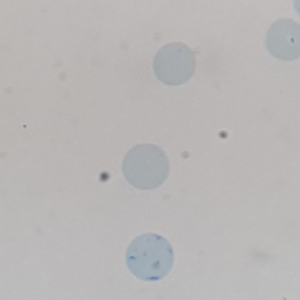aggregate reticulocyte: (123, 232, 176, 283)
erythrocyte: (119, 142, 171, 192)
punctate reticulocyte: (151, 41, 198, 87)
